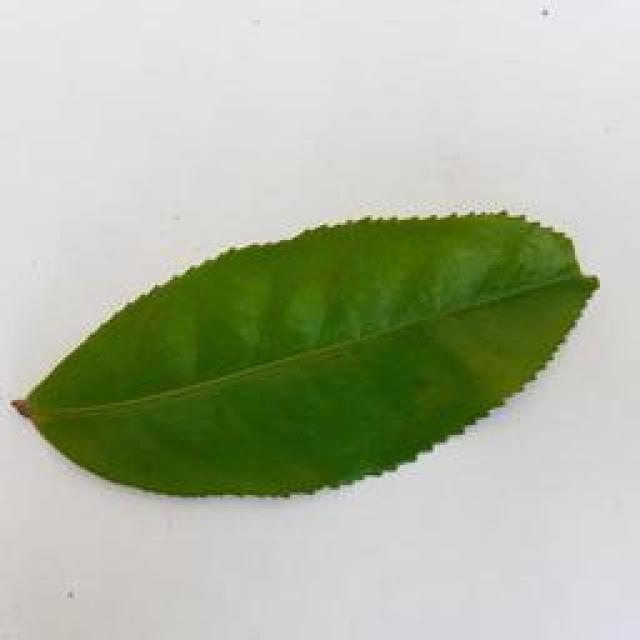Healthy: (11, 208, 604, 505)
